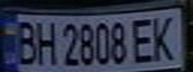0: (93, 19, 112, 66)
2: (57, 19, 81, 67)
8: (109, 18, 133, 66), (75, 19, 96, 67)
B: (9, 17, 39, 65)
E: (127, 15, 160, 64)
H: (33, 18, 57, 66)
K: (148, 12, 184, 62)
